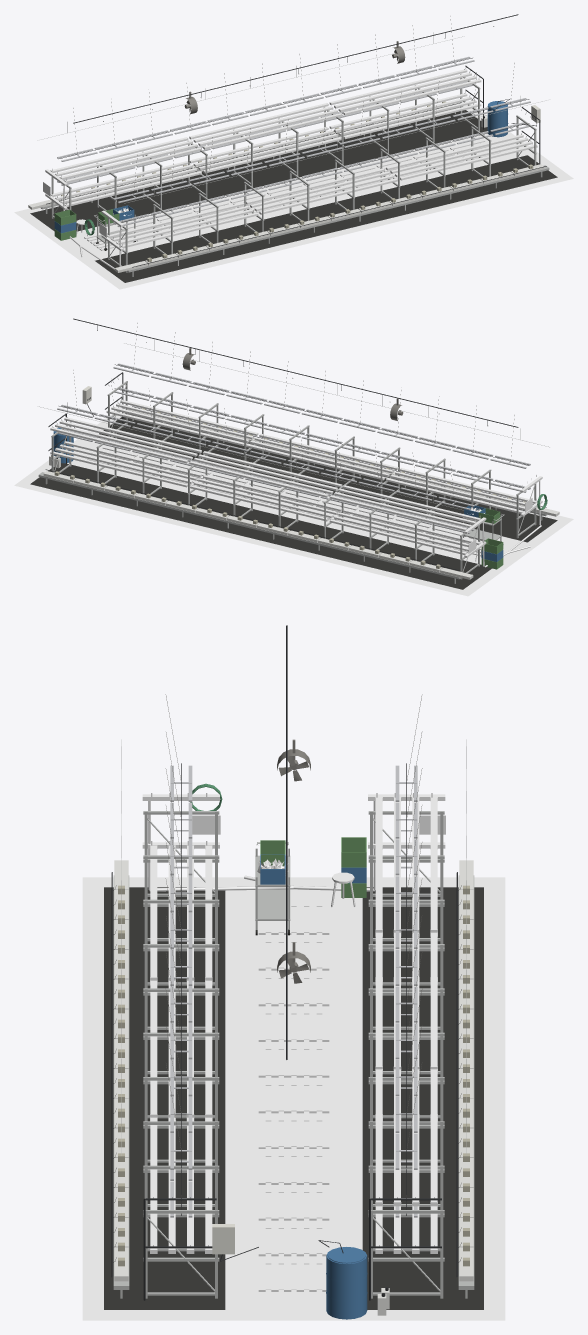
File: HY_Fitout_B_LOD0.glb
3 renders of one model, top to bottom at view 1: azimuth 30°, elevation 25°; view 2: azimuth 150°, elevation 25°; view 3: azimuth 270°, elevation 25°, orthographic. The views are drawn at different scales.
Parts seen in each view (by area): view 1: HY_Fitout_B_LOD0; view 2: HY_Fitout_B_LOD0; view 3: HY_Fitout_B_LOD0.
Boxes of the visible parts, x1,y1,x2,y2 form: HY_Fitout_B_LOD0: (14,14,573,289); HY_Fitout_B_LOD0: (14,318,573,596); HY_Fitout_B_LOD0: (82,625,505,1320).
Size of the model in its own units: 14.92 by 4.05 by 6.
